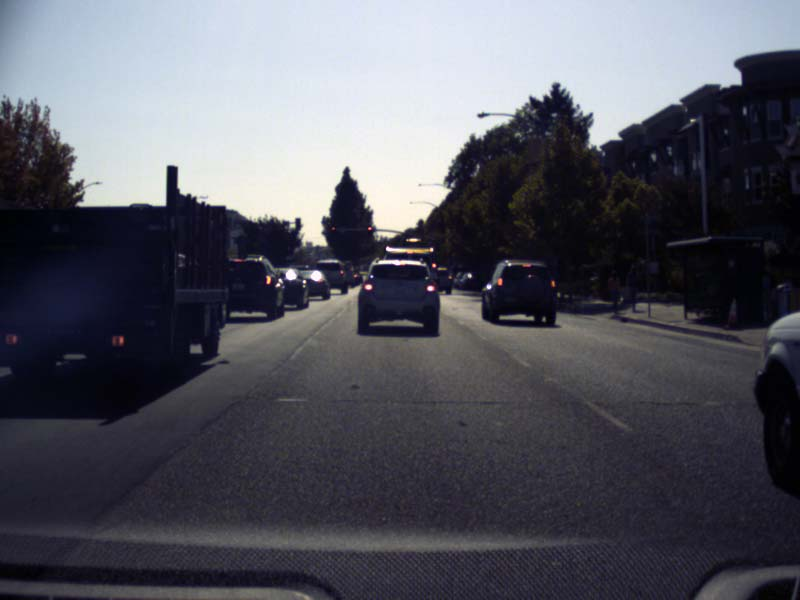Red: (366, 226, 372, 236), (330, 225, 335, 236)
